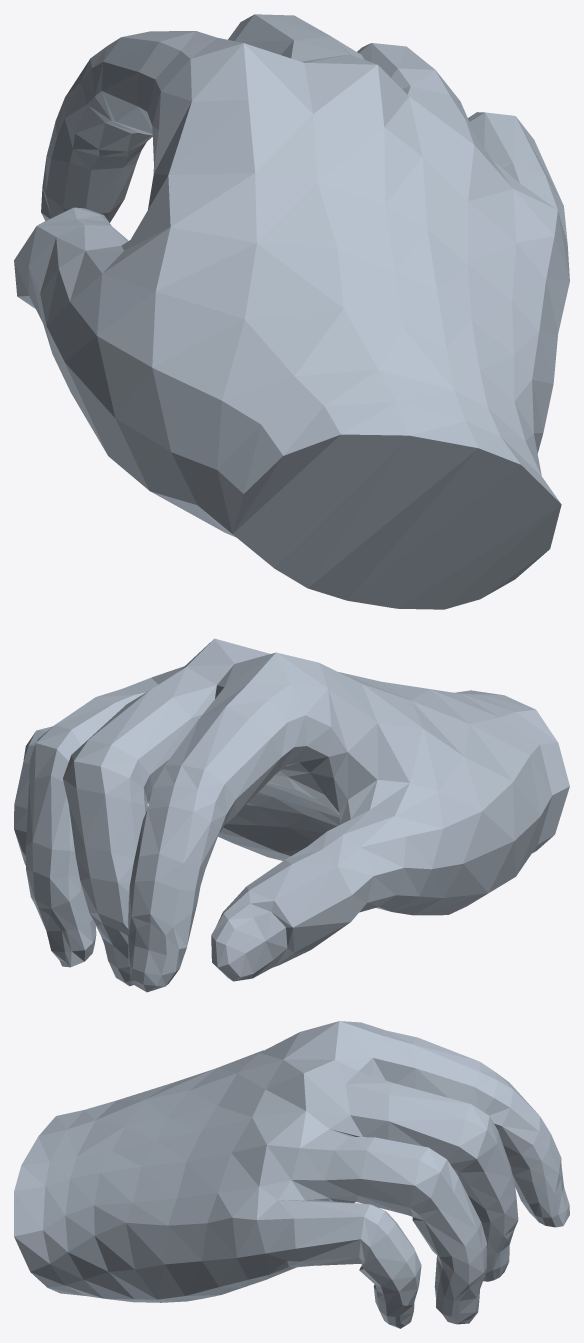
The model's file is Hamer_final_transform_to_Hunyuan3D.glb.
The picture shows the model from 3 angles, top to bottom: view 1: azimuth 30°, elevation 25°; view 2: azimuth 150°, elevation 25°; view 3: azimuth 270°, elevation 25°; orthographic projection. The views are drawn at different scales.
Parts seen in each view (by area): view 1: 325_cropped_hoi_1_0.obj; view 2: 325_cropped_hoi_1_0.obj; view 3: 325_cropped_hoi_1_0.obj.
Boxes of the visible parts, <box> form: 325_cropped_hoi_1_0.obj: <box>14,14,569,609</box>; 325_cropped_hoi_1_0.obj: <box>14,638,569,992</box>; 325_cropped_hoi_1_0.obj: <box>14,1021,569,1328</box>.
Bounding box in the file's own units: 0.6169 × 0.4657 × 0.8651.
